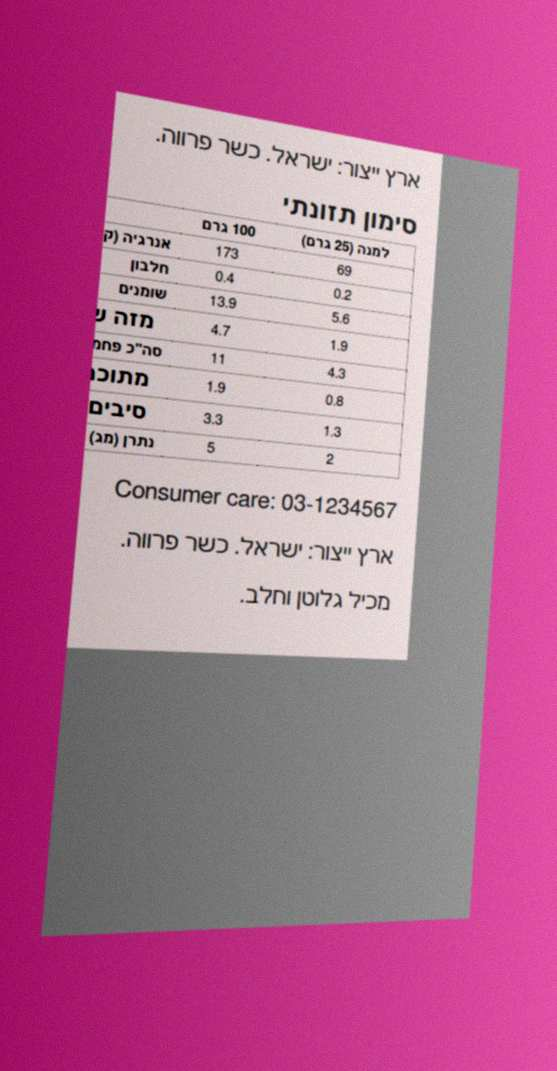carbs: (208, 350, 228, 369)
energy: (212, 243, 241, 264)
fat: (206, 292, 239, 313)
protein: (213, 268, 237, 288)
